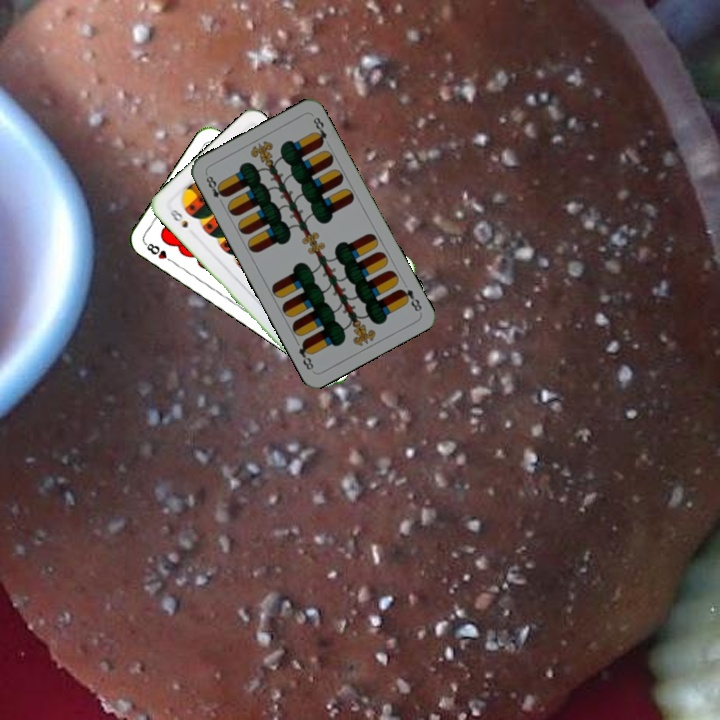E8: (202, 170, 229, 208), (395, 285, 424, 314)
H8: (140, 239, 177, 266)
S8: (166, 205, 190, 230)
